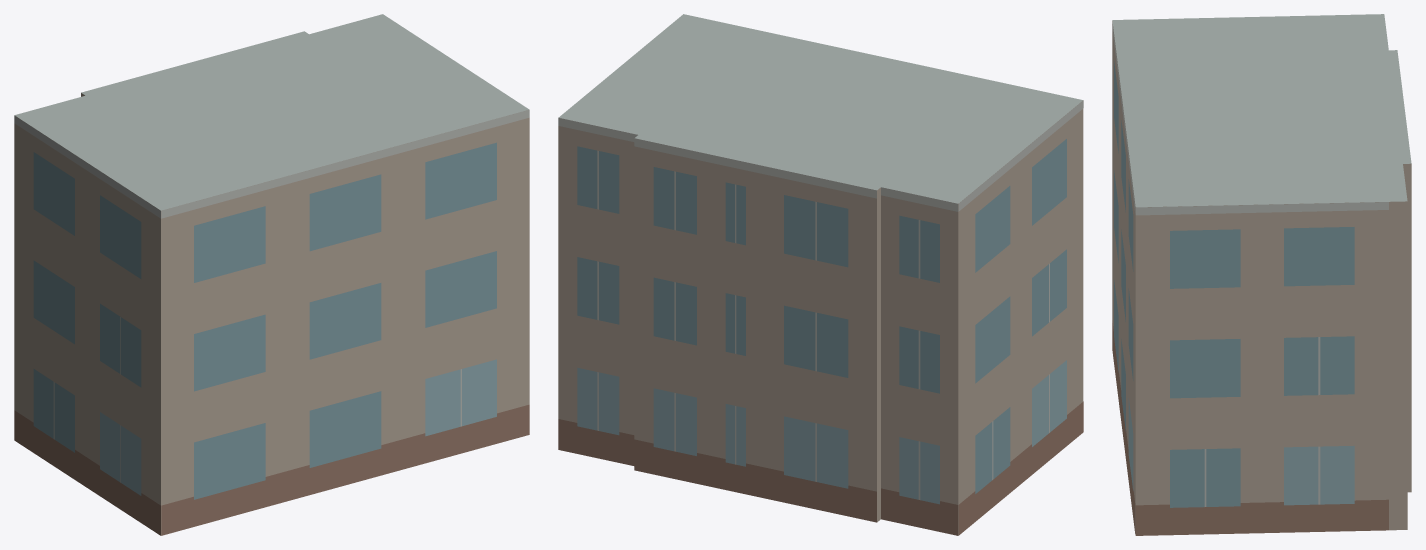
File: survey-upis-32994554.glb
3 views of the same model, side by side, from view 1: azimuth 30°, elevation 25°; view 2: azimuth 150°, elevation 25°; view 3: azimuth 270°, elevation 25° (orthographic). The views are drawn at different scales.
Parts seen in each view (by area): view 1: survey-upis-32994554.tmp; view 2: survey-upis-32994554.tmp; view 3: survey-upis-32994554.tmp.
Boxes of the visible parts, x1,y1,x2,y2 form: survey-upis-32994554.tmp: [14, 14, 529, 535]; survey-upis-32994554.tmp: [558, 14, 1083, 535]; survey-upis-32994554.tmp: [1112, 14, 1411, 535].
Size of the model in its own units: 12.51 by 9.9 by 8.18.
